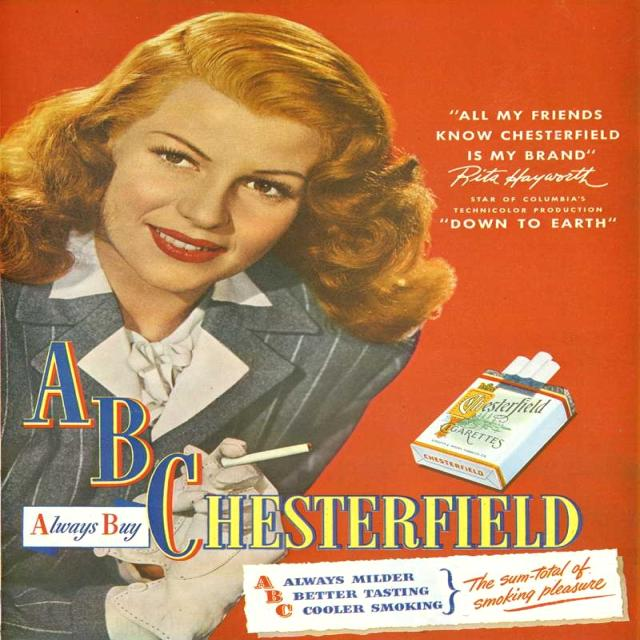Smooking: (216, 436, 318, 468)
